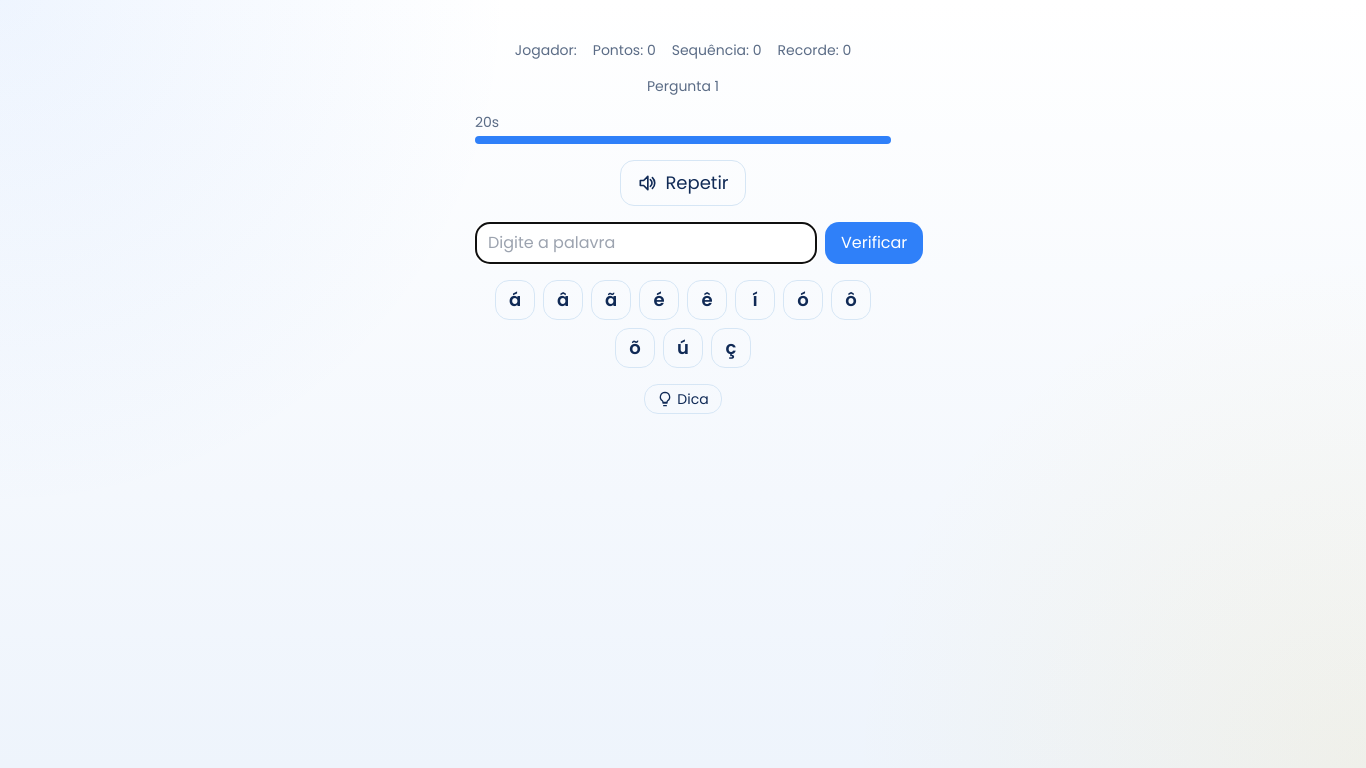
Teclas de acento › inserts the letter at the cursor, replacing the selection
This screenshot has width=1366, height=768.
In the field: (646, 243) [475,222,817,264], type "acucar"
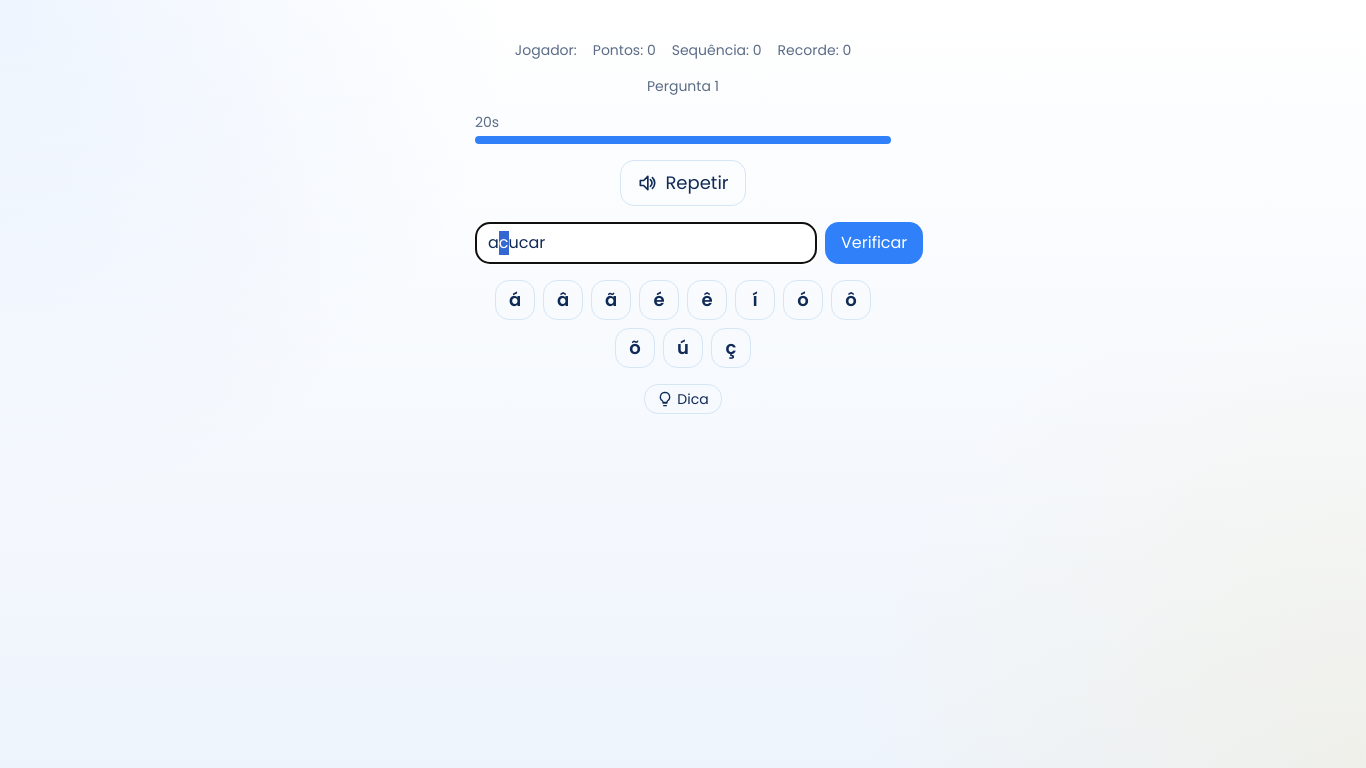
Click the button "ç": (731, 348) [711,328,751,368]
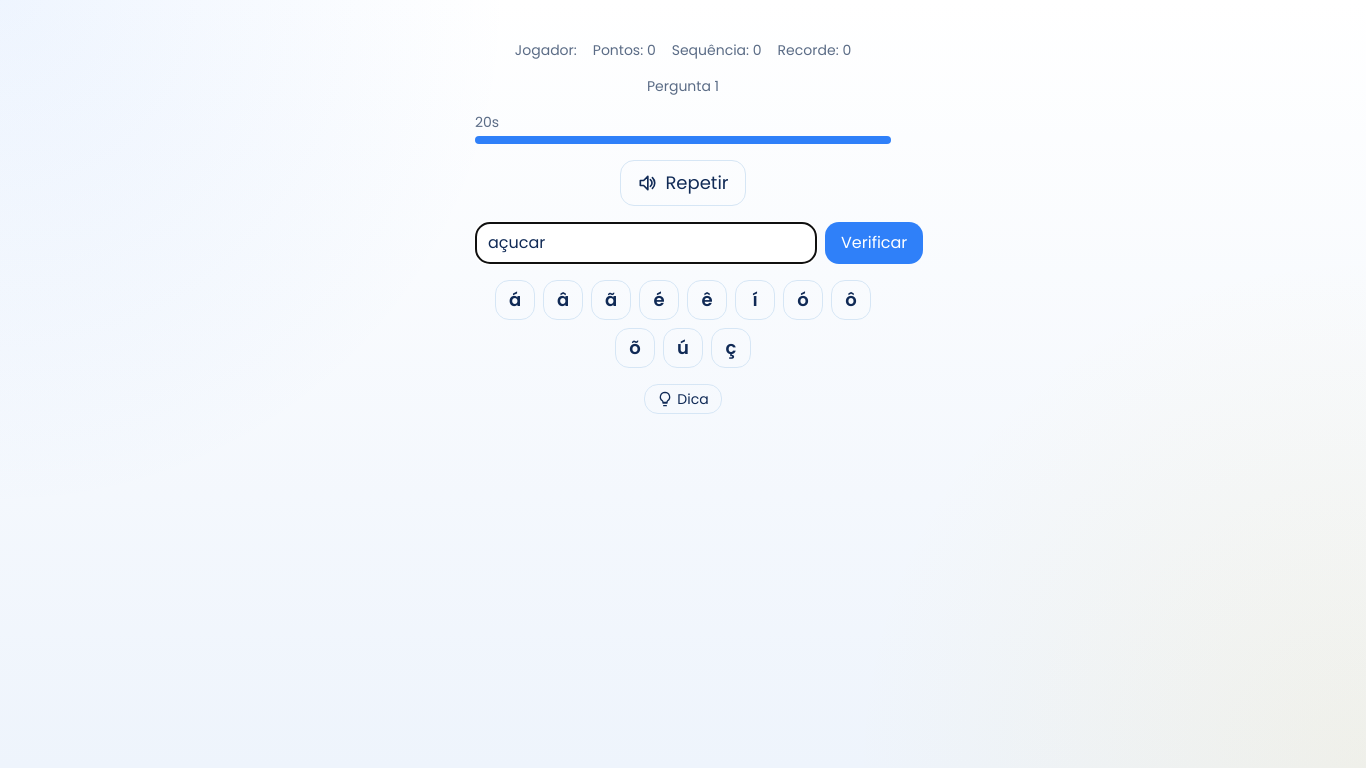
Expected: the field holds "açucar", [475,222,817,264]
